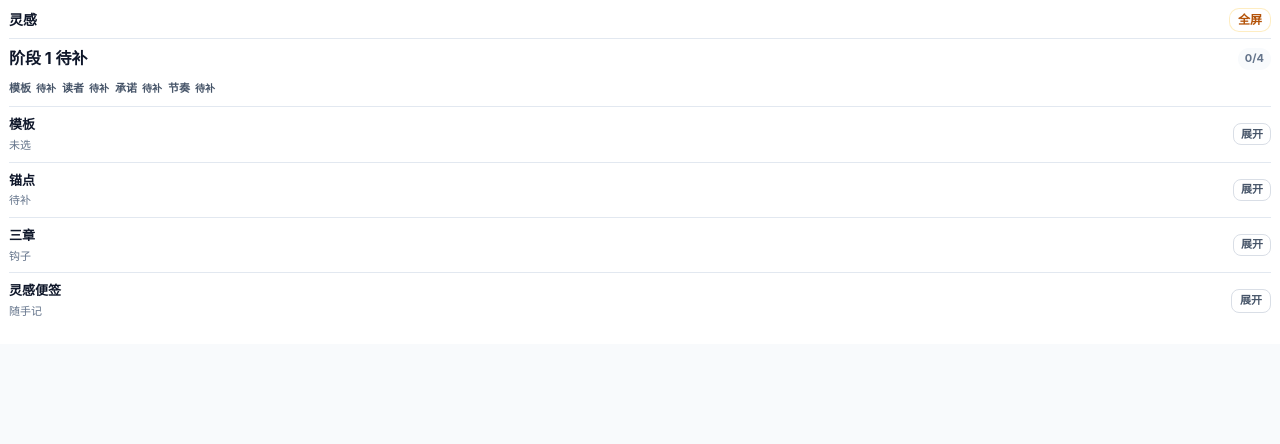
InspirationPanel › hydrates template defaults and promotes the gate after selecting a template
The image size is (1280, 444).
Click the button with test id "inspiration-toggle-template". click: click(1252, 134)
box: x1=1233 y1=123 x2=1271 y2=145
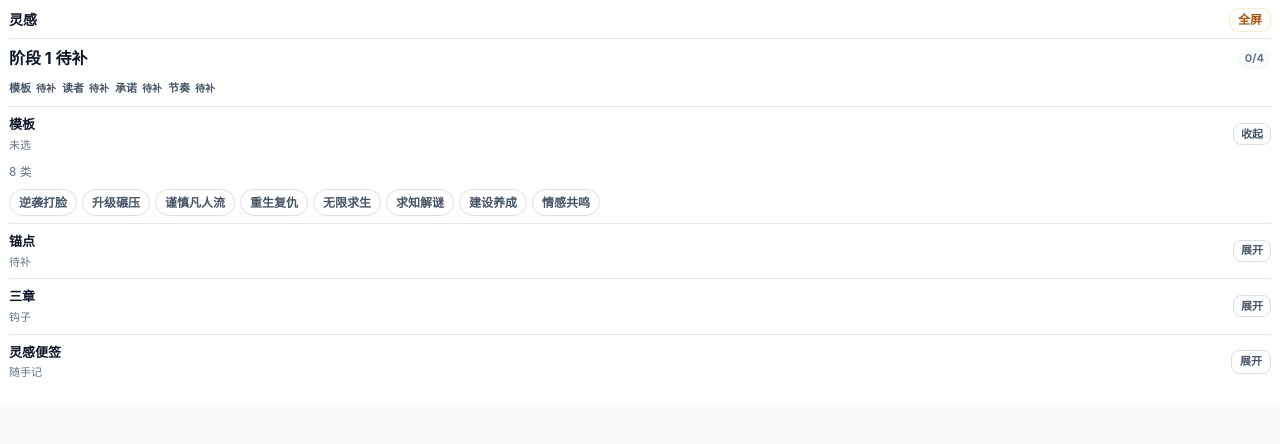
Click the button with test id "template-mystery". click: click(420, 202)
box: x1=386 y1=189 x2=454 y2=216
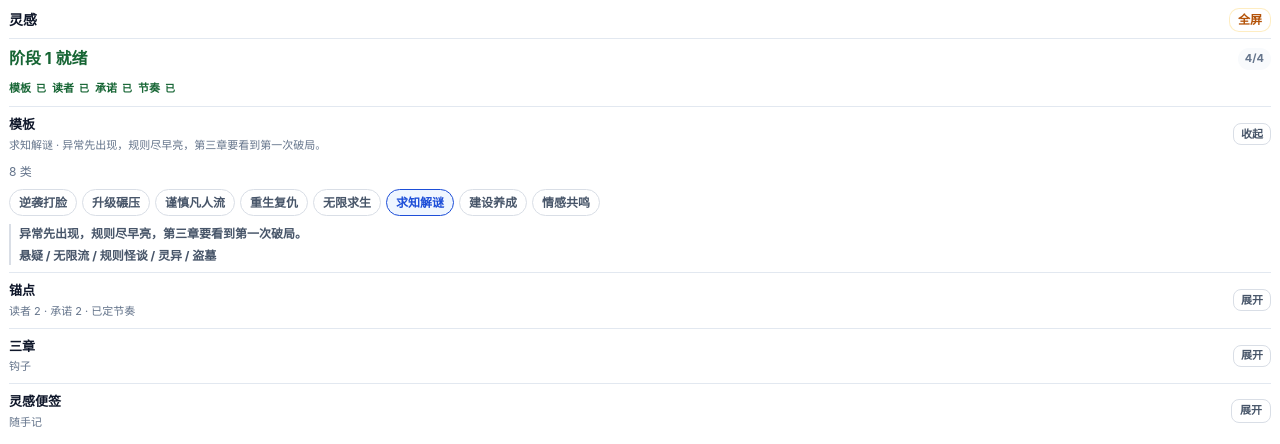
Expected: the text "求知解谜" is shown, x1=9 y1=138 x2=326 y2=152
Expected: the text "阶段 1 就绪" is shown, x1=9 y1=46 x2=88 y2=72
Expected: the text "异常先出现" is shown, x1=9 y1=138 x2=326 y2=152
